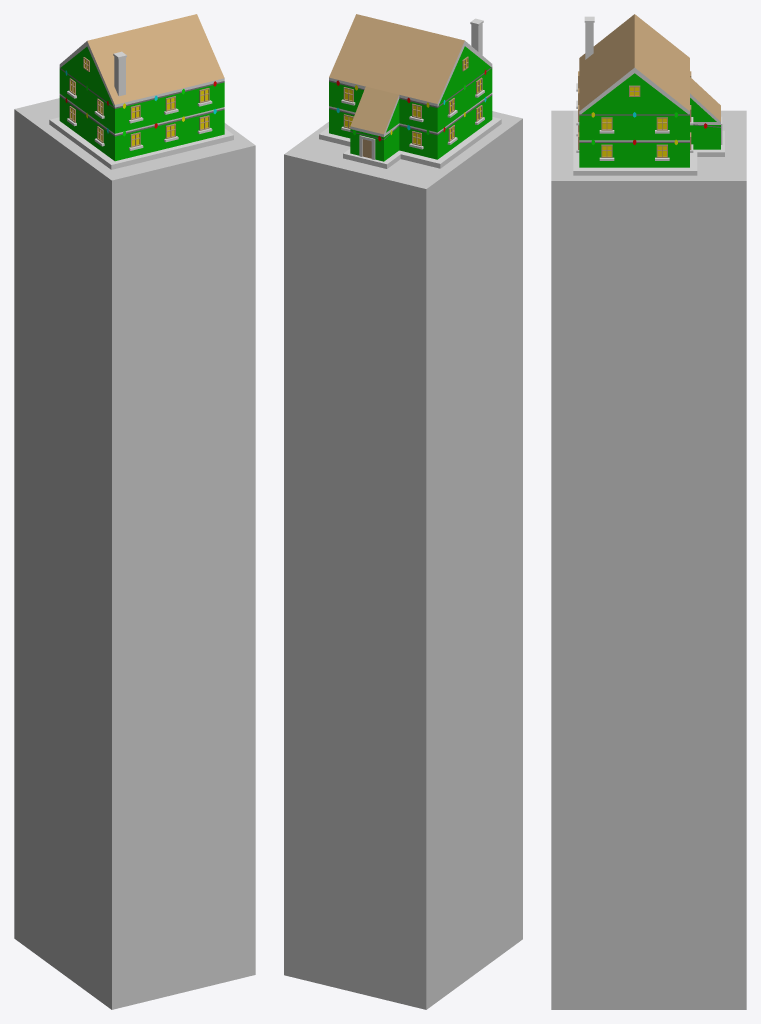
The model's file is Home.fbx.
3 renders of one model, left to right at view 1: azimuth 30°, elevation 25°; view 2: azimuth 150°, elevation 25°; view 3: azimuth 270°, elevation 25°, orthographic.
Visible parts, largest first — view 1: Home; view 2: Home; view 3: Home.
Part boxes in pixels (x1,y1,x2,y2): Home: [14, 14, 255, 1009]; Home: [284, 14, 522, 1009]; Home: [551, 14, 746, 1009].
Size of the model in its own units: 1795 by 11140 by 2108.
